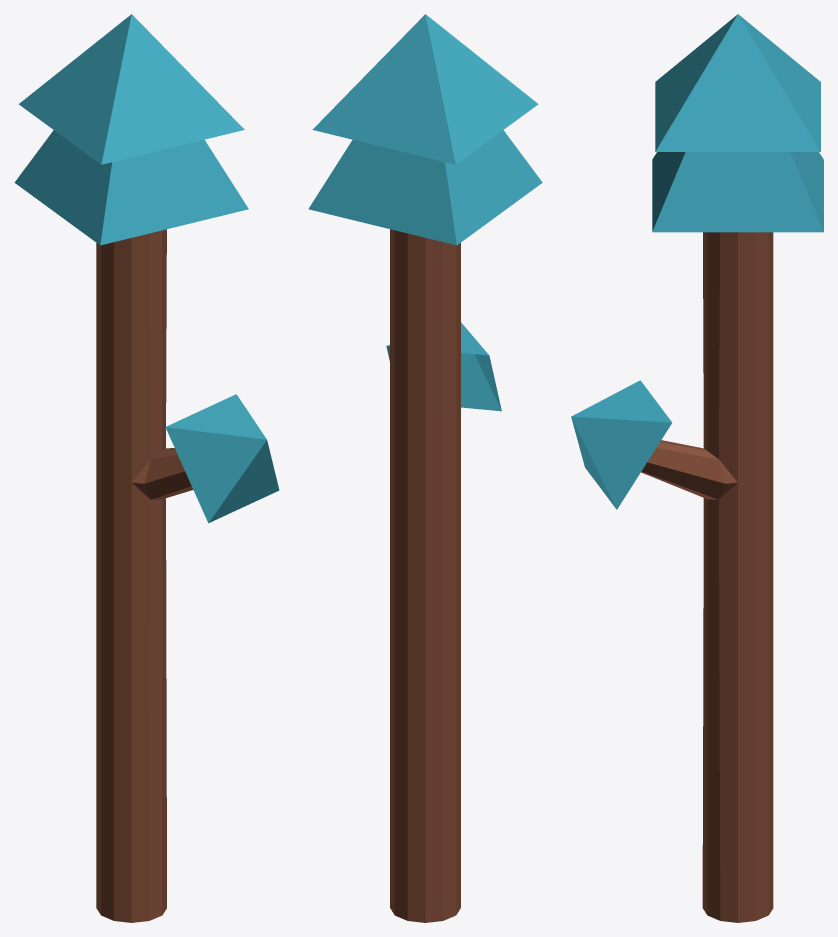
Rendered from Tree_25_summer_blue_mat.fbx.
3 views of the same model, side by side, from view 1: azimuth 30°, elevation 25°; view 2: azimuth 150°, elevation 25°; view 3: azimuth 270°, elevation 25° (orthographic).
Visible parts, largest first — view 1: Tree_25_summer_blue_mat; view 2: Tree_25_summer_blue_mat; view 3: Tree_25_summer_blue_mat.
Boxes of the visible parts, x1,y1,x2,y2 form: Tree_25_summer_blue_mat: (14,14,279,922); Tree_25_summer_blue_mat: (308,14,542,922); Tree_25_summer_blue_mat: (571,14,823,922).
Bounding box in the file's own units: 58.32 × 308 × 79.03.
